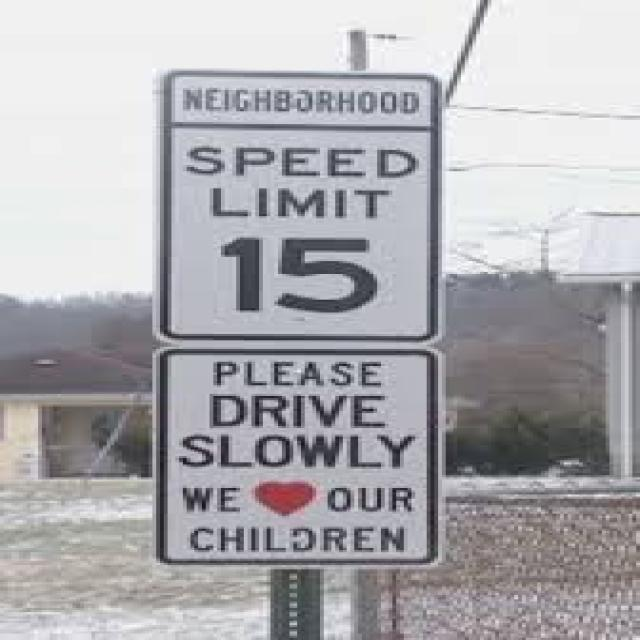speedLimit15: (160, 120, 438, 347)
